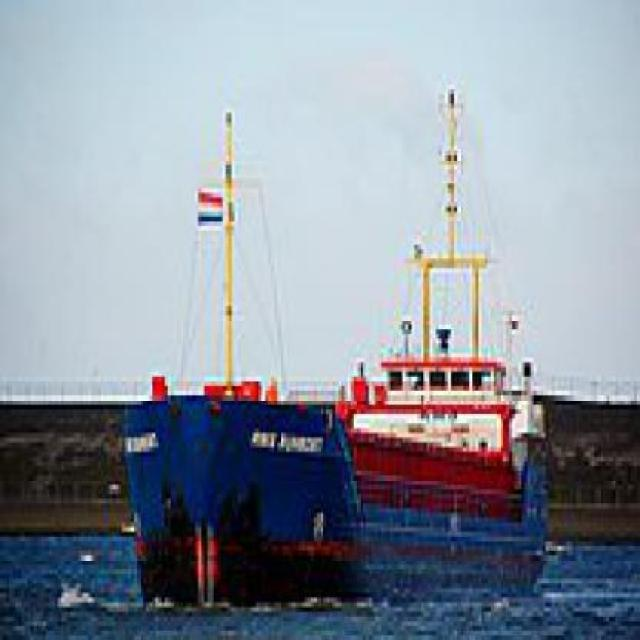container: (108, 208, 559, 612)
